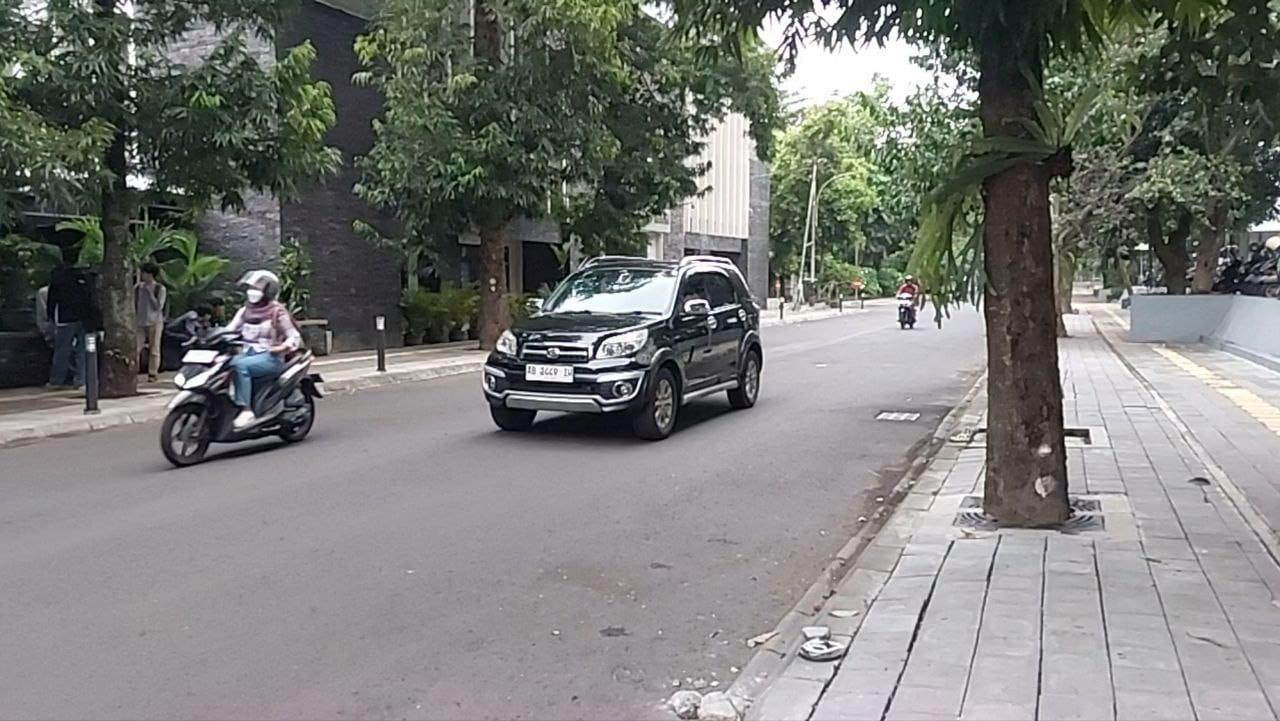helm: (245, 269, 280, 306)
riding: (159, 269, 326, 467)
